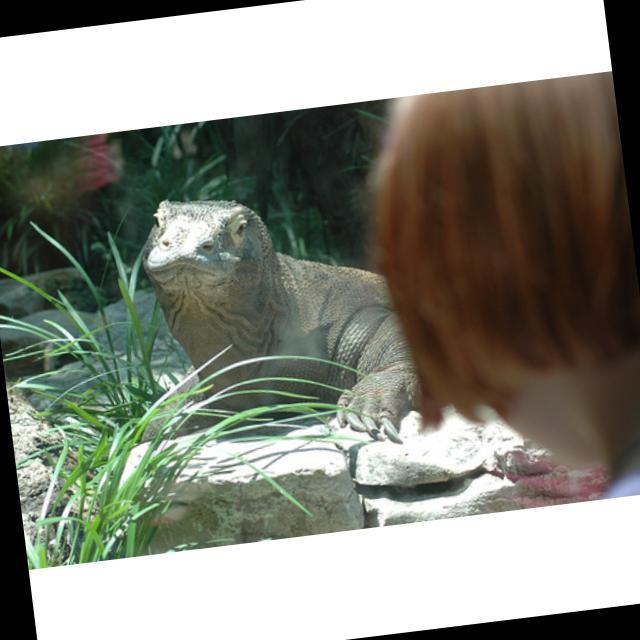KomodoDragon: (131, 169, 425, 474)
